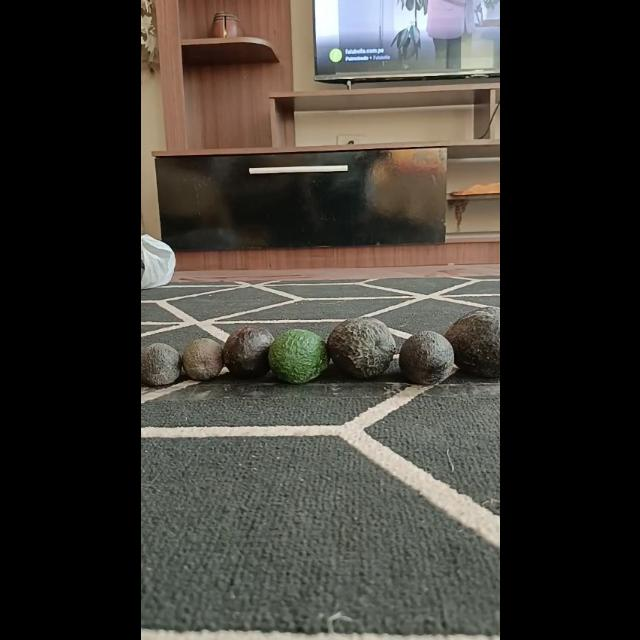Primera: (325, 316, 395, 378), (443, 306, 499, 378)
Segunda: (268, 329, 328, 383), (398, 330, 456, 384), (220, 326, 274, 378)
Tercera: (182, 336, 224, 379), (140, 342, 180, 386)
